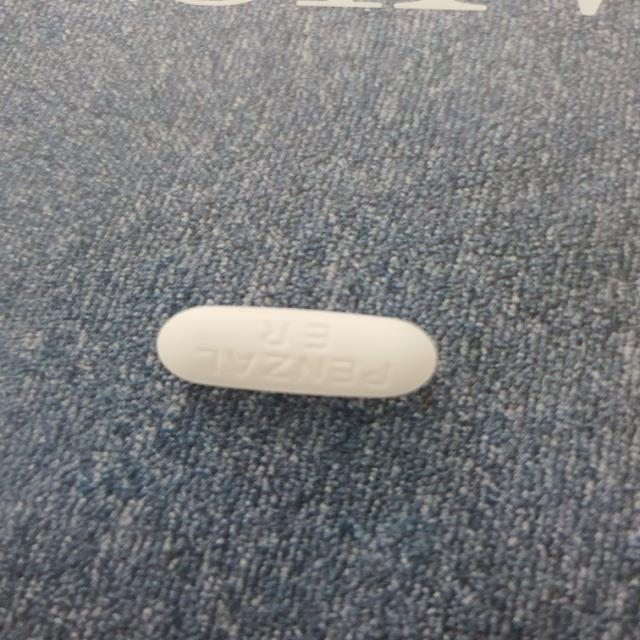pill: (134, 284, 458, 414)
